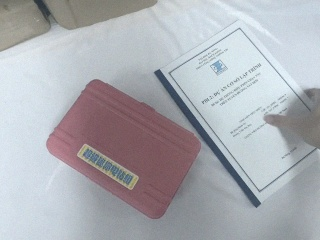box: (45, 79, 203, 221)
